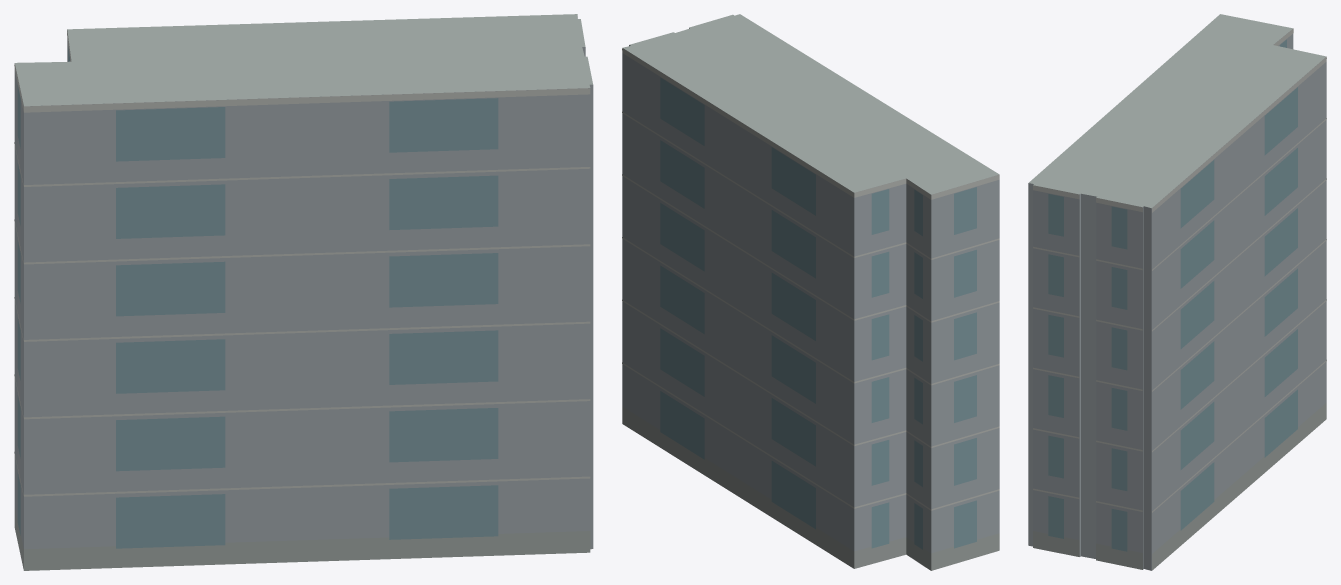
File: survey-upis-32919621.glb
The picture shows the model from 3 angles, left to right: view 1: azimuth 30°, elevation 25°; view 2: azimuth 150°, elevation 25°; view 3: azimuth 270°, elevation 25°; orthographic projection. The views are drawn at different scales.
Visible parts, largest first — view 1: survey-upis-32919621.tmp; view 2: survey-upis-32919621.tmp; view 3: survey-upis-32919621.tmp.
Part boxes in pixels (bbox=[...]): survey-upis-32919621.tmp: bbox=[14, 14, 593, 570]; survey-upis-32919621.tmp: bbox=[622, 14, 999, 570]; survey-upis-32919621.tmp: bbox=[1028, 14, 1326, 570].
Bounding box in the file's own units: 20.46 × 17.8 × 13.29.
